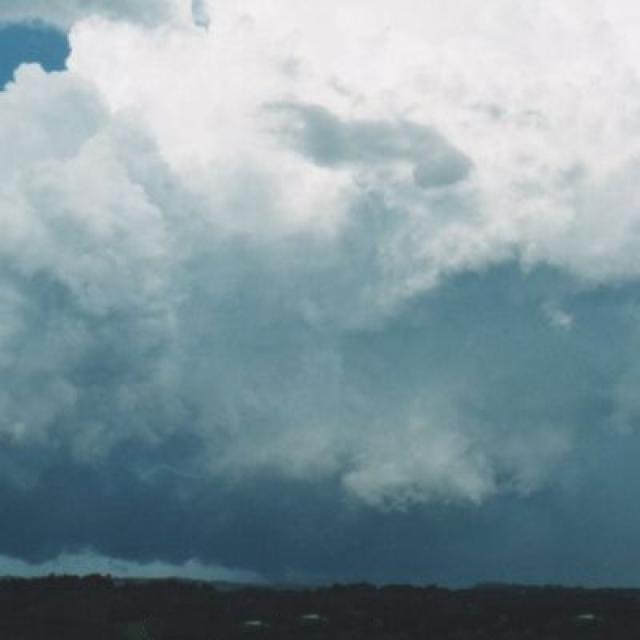Cb: (5, 64, 640, 480)
